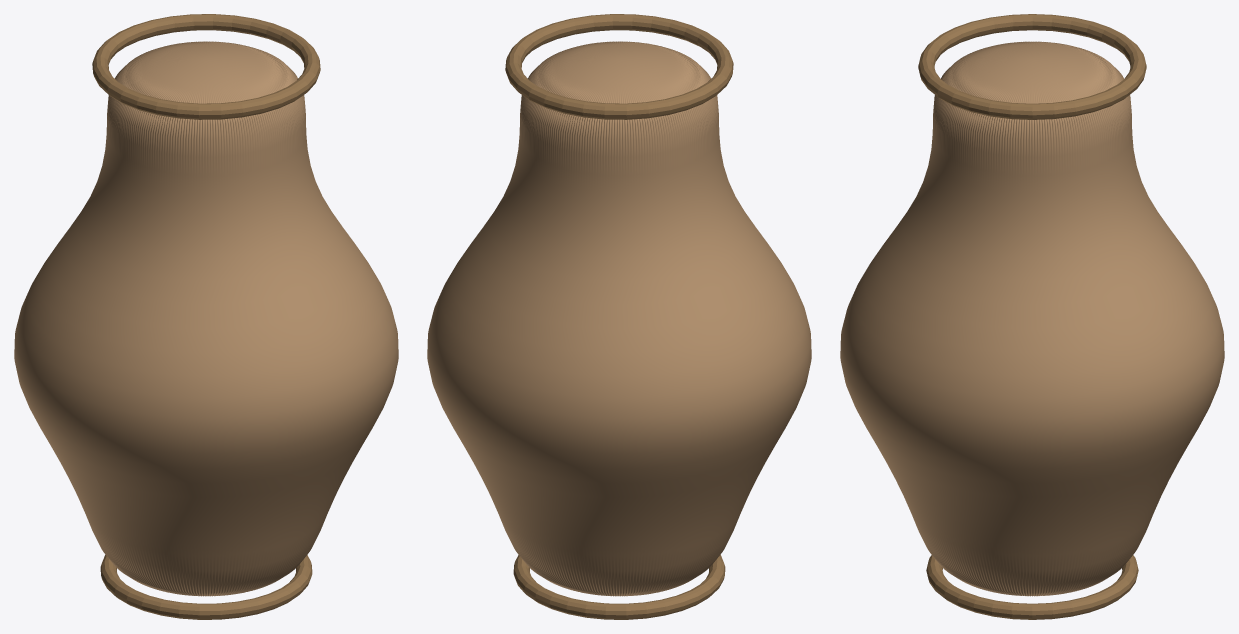
File: vase.fbx
3 renders of one model, left to right at view 1: azimuth 30°, elevation 25°; view 2: azimuth 150°, elevation 25°; view 3: azimuth 270°, elevation 25°, orthographic.
Parts seen in each view (by area): view 1: vase; view 2: vase; view 3: vase.
Part boxes in pixels (box(x1,y1,x2,y2)): vase: box(14, 14, 398, 619); vase: box(427, 14, 811, 619); vase: box(840, 14, 1224, 619).
Size of the model in its own units: 0.2352 by 0.35 by 0.2352.
